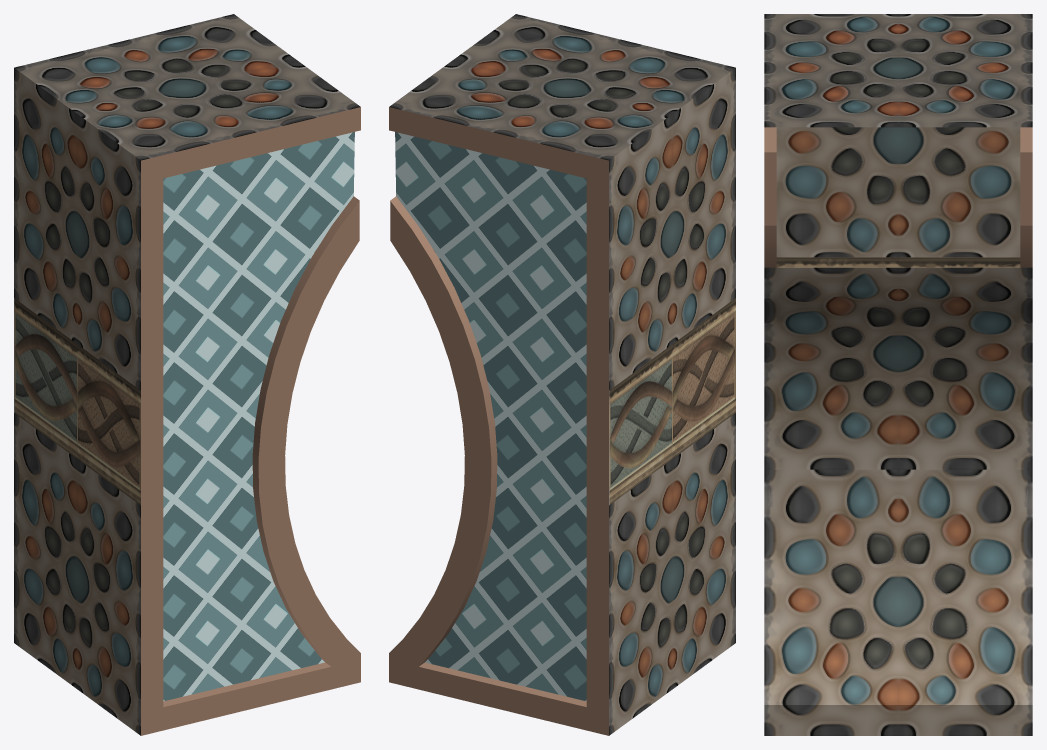
The model's file is DI_003_004_006_007_entrance.glb.
The picture shows the model from 3 angles, left to right: view 1: azimuth 30°, elevation 25°; view 2: azimuth 150°, elevation 25°; view 3: azimuth 270°, elevation 25°; orthographic projection. The views are drawn at different scales.
Visible parts, largest first — view 1: Entrance; view 2: Entrance; view 3: Entrance.
Boxes of the visible parts, x1,y1,x2,y2 form: Entrance: (14,14,360,735); Entrance: (389,14,735,735); Entrance: (764,14,1032,735).
Size of the model in its own units: 0.75 by 1.88 by 0.75.
Materials: 3 (2 with a texture image).
